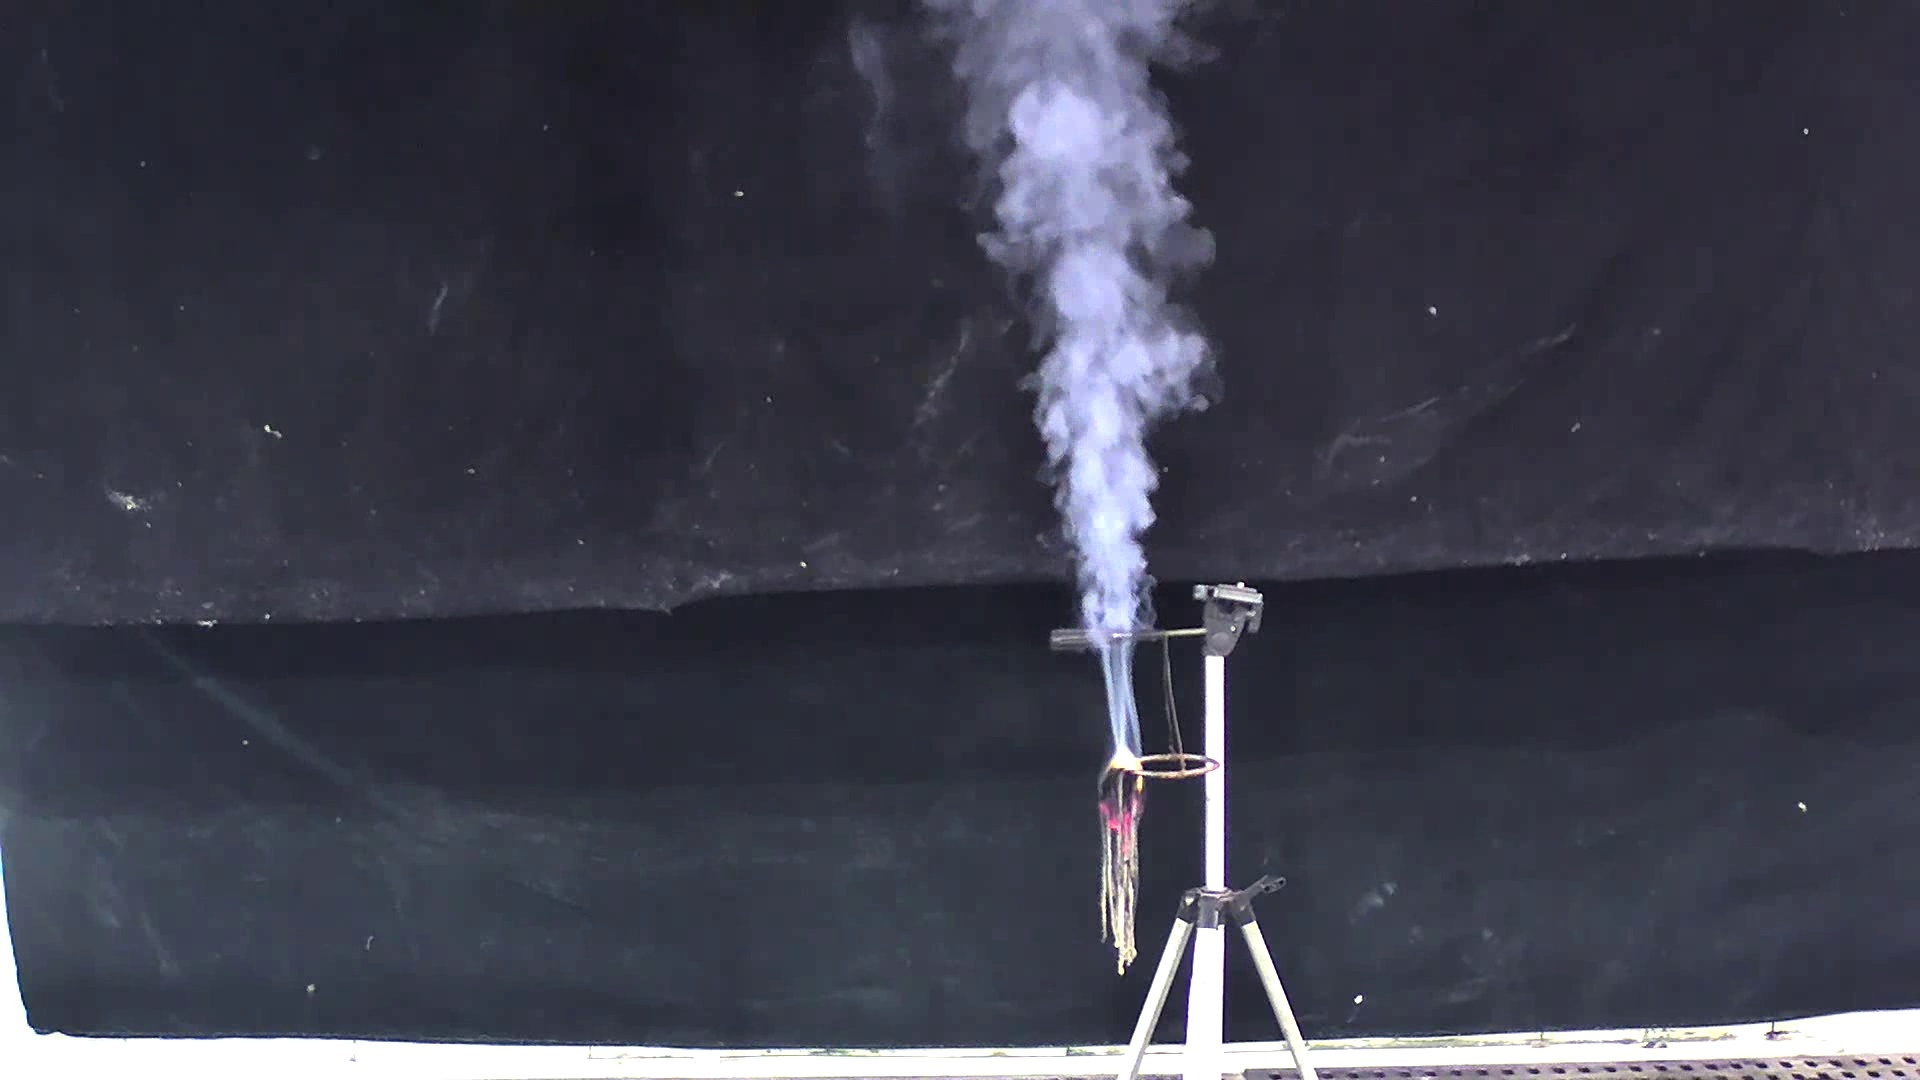smoke: (909, 11, 1217, 764)
